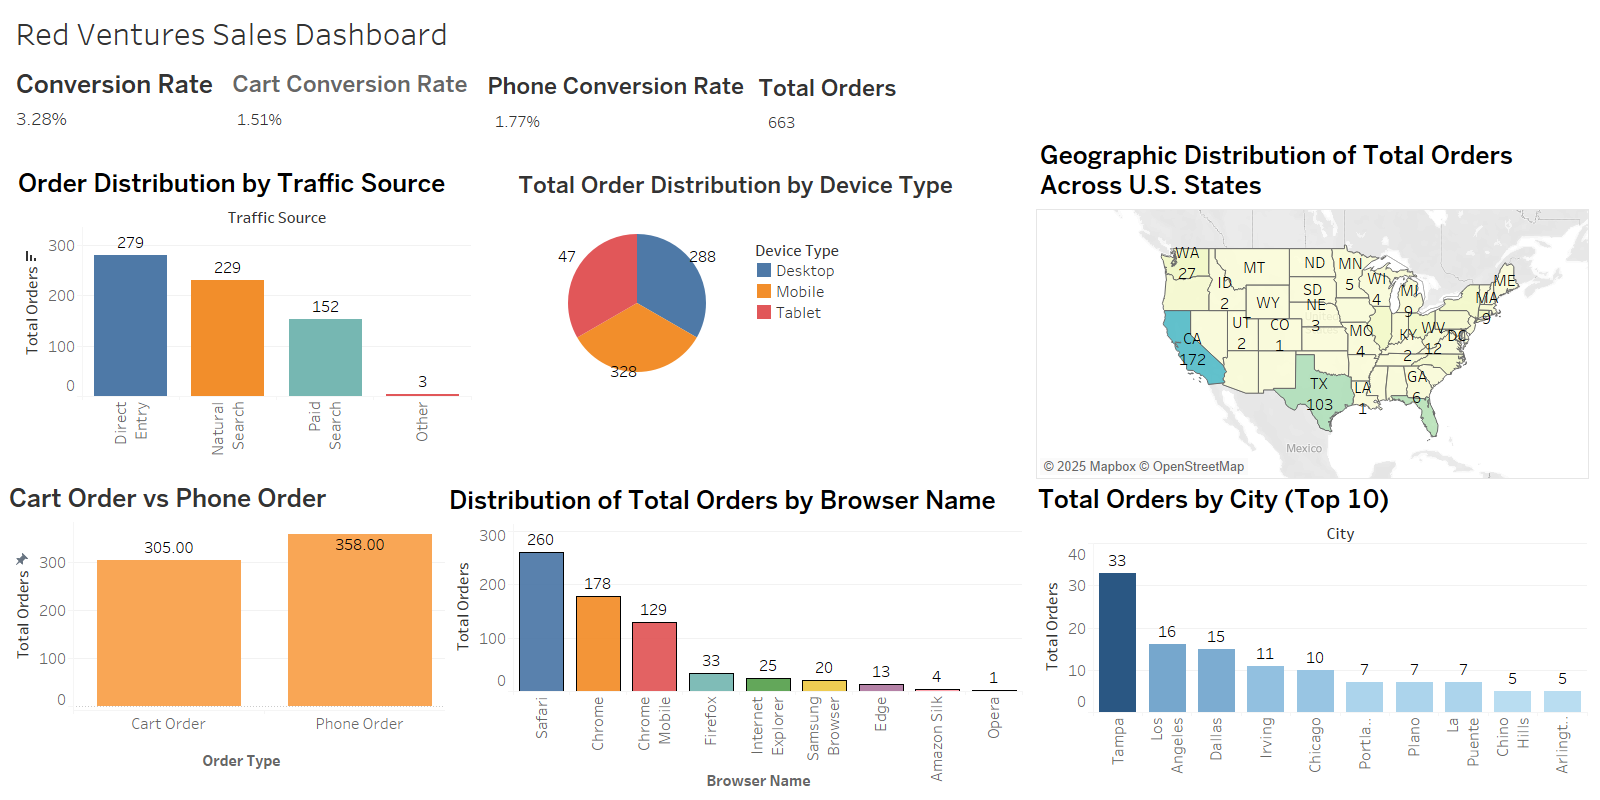

Layout of this report page (visuals, bound fields, positions):
{"tool":"tableau","page":{"name":"Red Ventures Sales Dashboard","canvas":[1600,800],"ordinal":0},"visuals":[{"type":"title","box":[8,8,1584,50]},{"type":"worksheet","title":"Conversion Rate","mark":"Automatic","box":[12,63,211,108]},{"type":"text","box":[229,69,296,30]},{"type":"text","box":[484,69,278,35]},{"type":"text","box":[755,73,157,30]},{"type":"worksheet","title":"Cart Rate","mark":"Automatic","box":[233,94,158,40]},{"type":"worksheet","title":"Phone Rate","mark":"Automatic","box":[484,96,94,51]},{"type":"worksheet","title":"Sheet 15","mark":"Automatic","box":[739,97,533,47]},{"type":"worksheet","title":"Sheet 5","mark":"Multipolygon","box":[1036,134,553,345]},{"type":"worksheet","title":"Sheet 13","mark":"Bar","rows":["Total Orders"],"cols":["Traffic Source"],"box":[14,162,457,311]},{"type":"text","box":[515,170,442,30]},{"type":"worksheet","title":"Sheet 14","mark":"Pie","box":[557,208,452,237]},{"type":"legend","title":"Sheet 14","param":"[federated.1fcxf5q0s0lim41e4ssnl1oe7tuu].[none:Device Type:nk]","box":[754,238,140,85]},{"type":"worksheet","title":"Sheet 1","mark":"Automatic","box":[5,477,451,258]},{"type":"worksheet","title":"Sheet 7","mark":"Bar","rows":["Total Orders"],"cols":["City"],"box":[1034,478,553,298]},{"type":"worksheet","title":"Sheet 4","mark":"Bar","rows":["Total Orders"],"cols":["Browser Name"],"box":[445,479,577,312]},{"type":"text","box":[199,748,100,24]},{"type":"text","box":[703,765,111,30]}]}

Visuals, with their boxes in screenshot pixels (x1, y1, x2, y2), scaled from the page's 1600x800 canvas onto the 1600x800 screenshot:
title: 8 8 1592 58
"Conversion Rate" worksheet: 12 63 223 171
text: 229 69 525 99
text: 484 69 762 104
text: 755 73 912 103
"Cart Rate" worksheet: 233 94 391 134
"Phone Rate" worksheet: 484 96 578 147
"Sheet 15" worksheet: 739 97 1272 144
"Sheet 5" worksheet (Multipolygon marks): 1036 134 1589 479
"Sheet 13" worksheet (Bar marks): 14 162 471 473
text: 515 170 957 200
"Sheet 14" worksheet (Pie marks): 557 208 1009 445
"Sheet 14" legend: 754 238 894 323
"Sheet 1" worksheet: 5 477 456 735
"Sheet 7" worksheet (Bar marks): 1034 478 1587 776
"Sheet 4" worksheet (Bar marks): 445 479 1022 791
text: 199 748 299 772
text: 703 765 814 795
